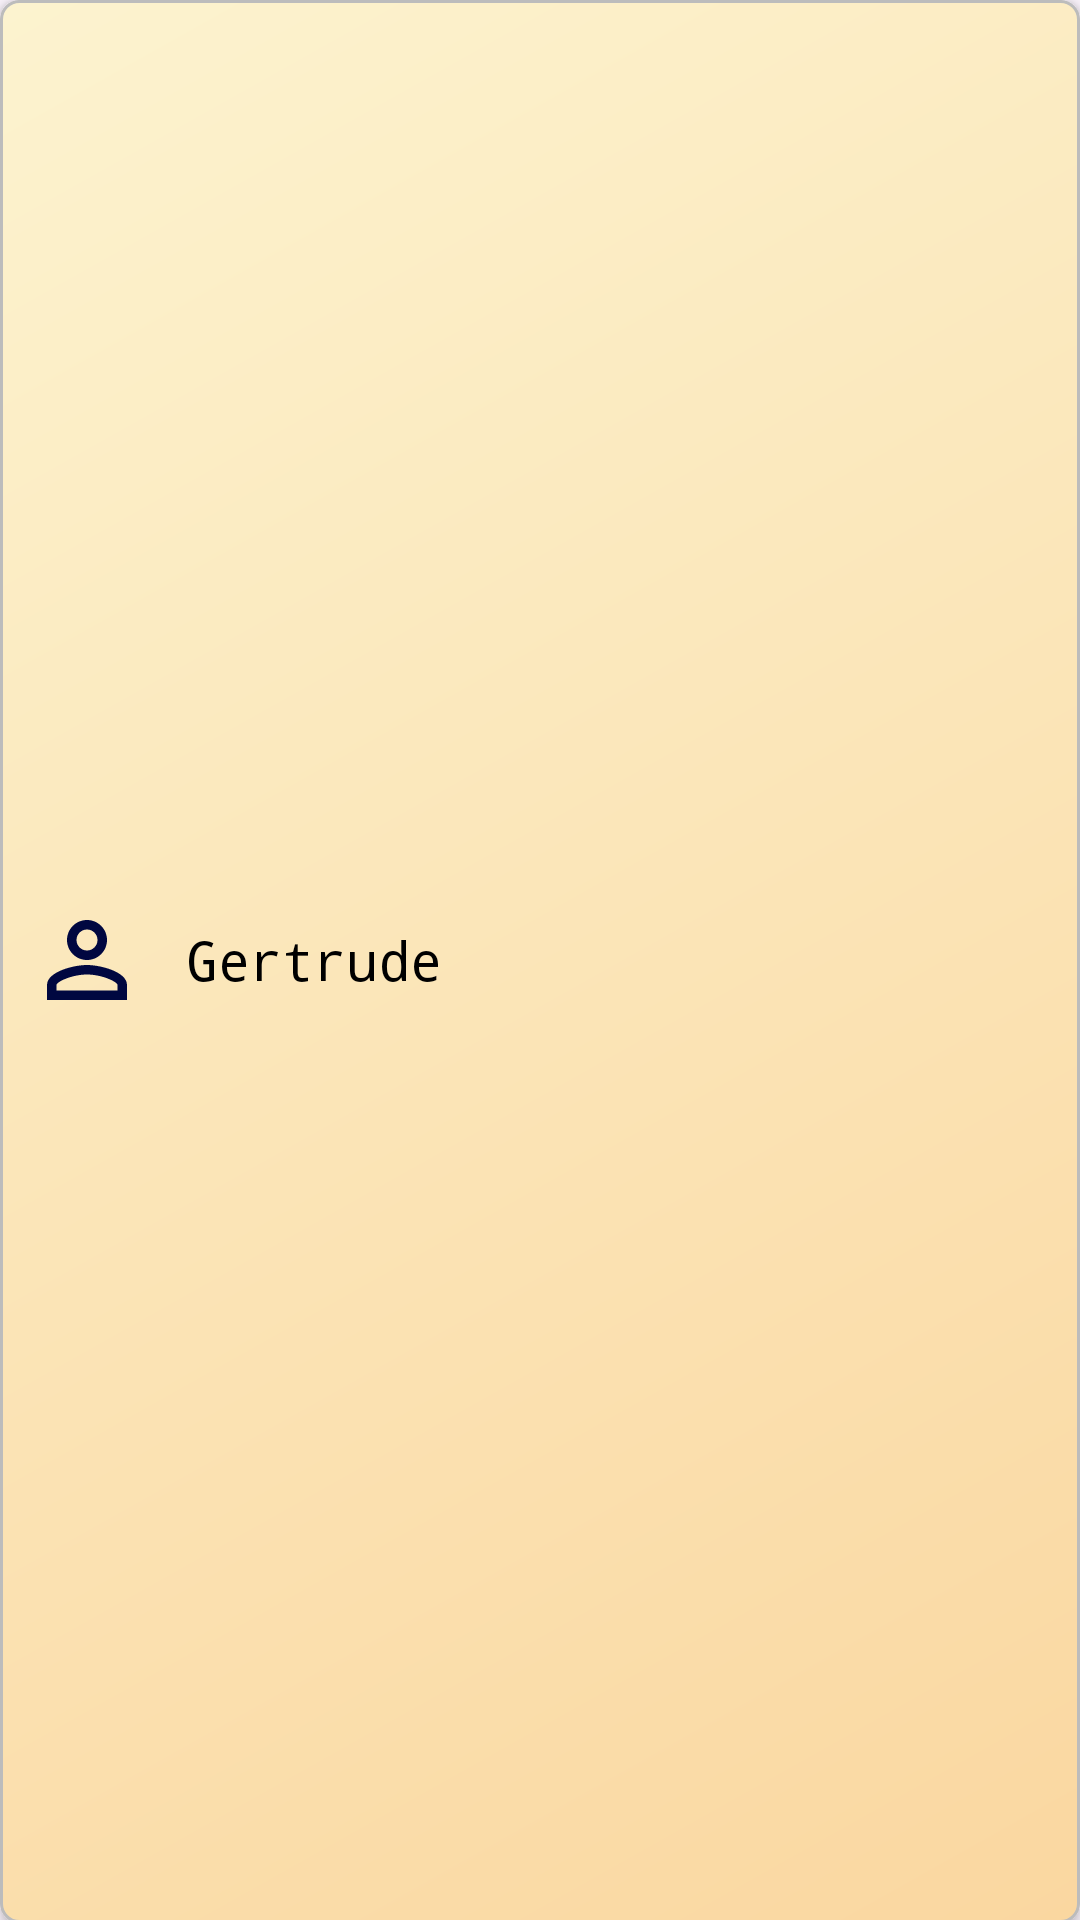

Screen size 1080x1920. Icon name, then its box in pixels as (x1, y1, x2, y2):
Image of user: (47, 920, 127, 1000)
